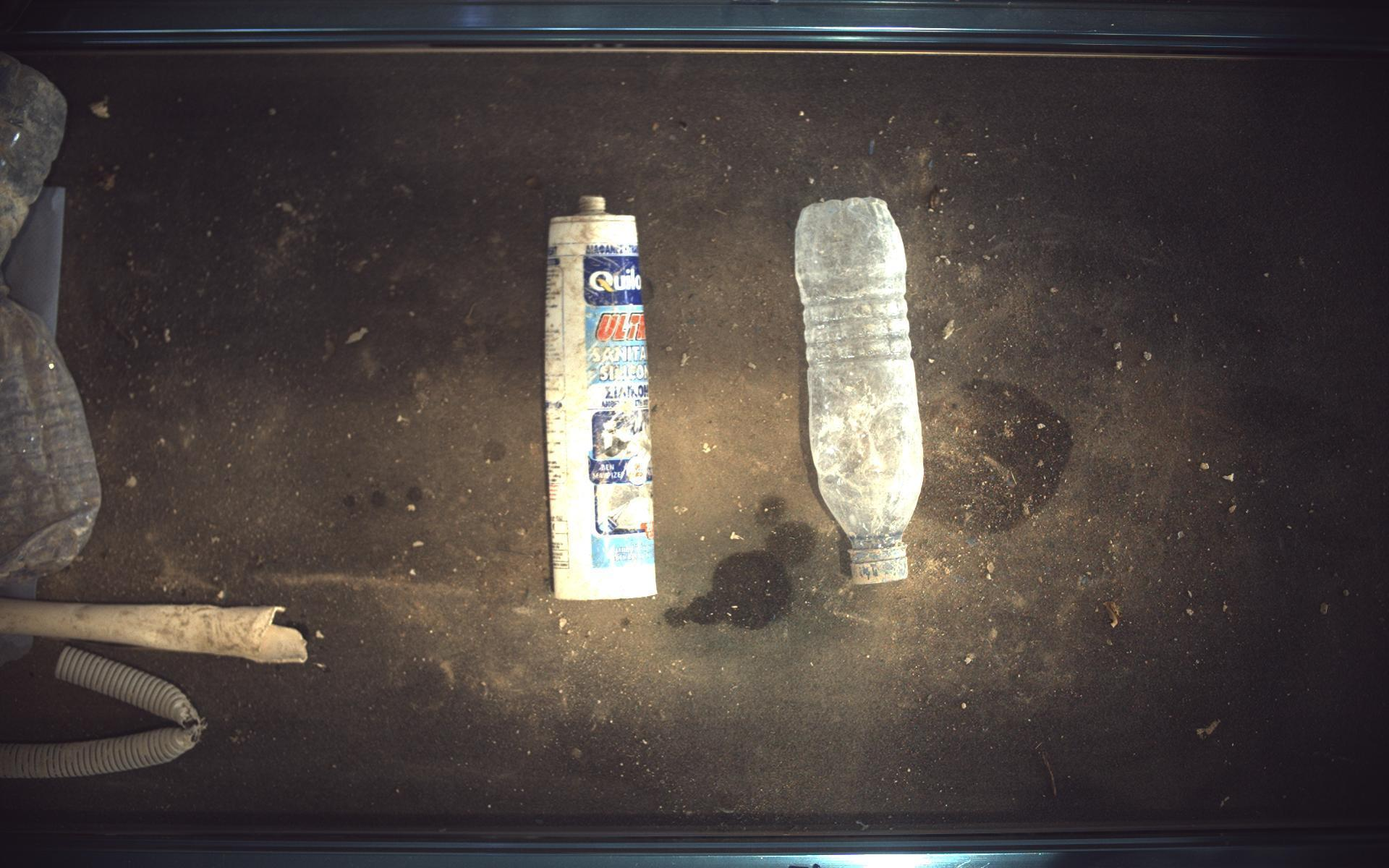general_w: (797, 197, 925, 584)
plastic: (545, 195, 657, 600)
